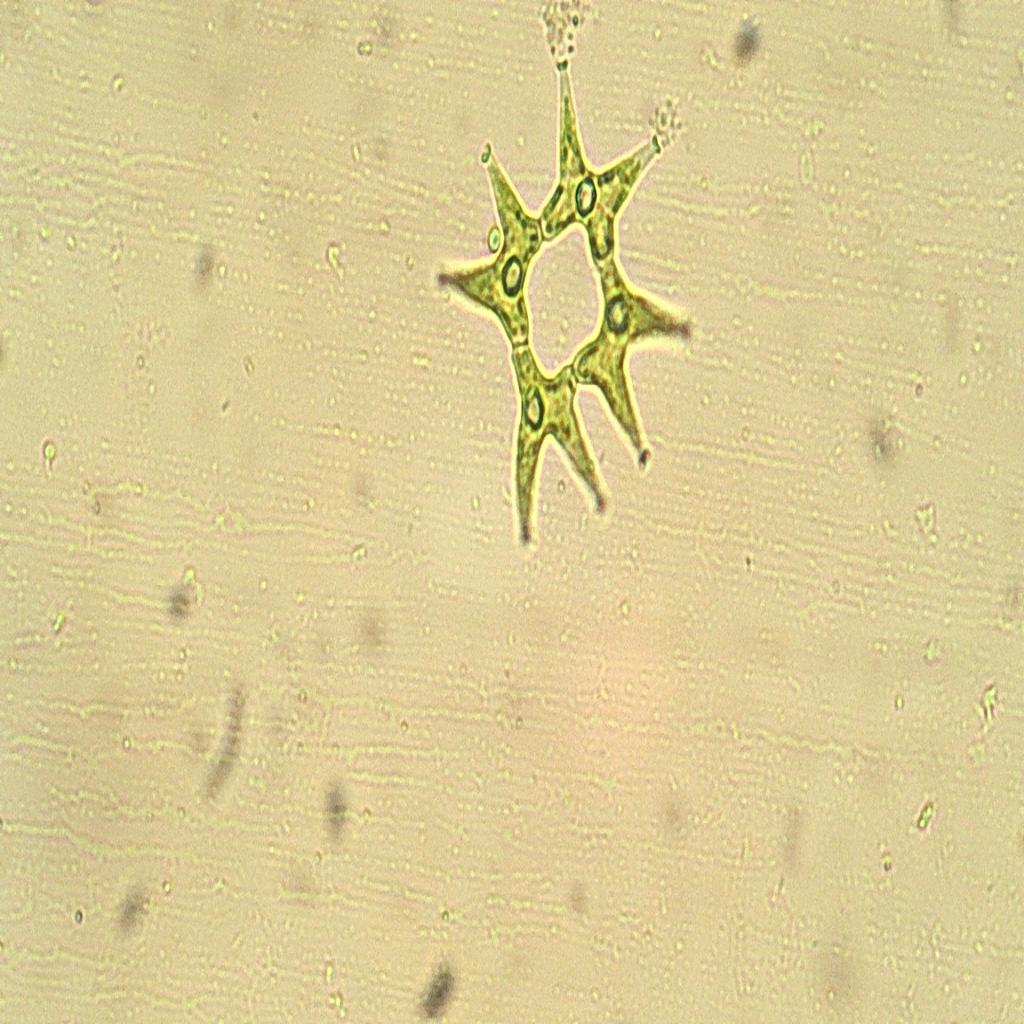Pediastrum_75O: (425, 24, 715, 604)
